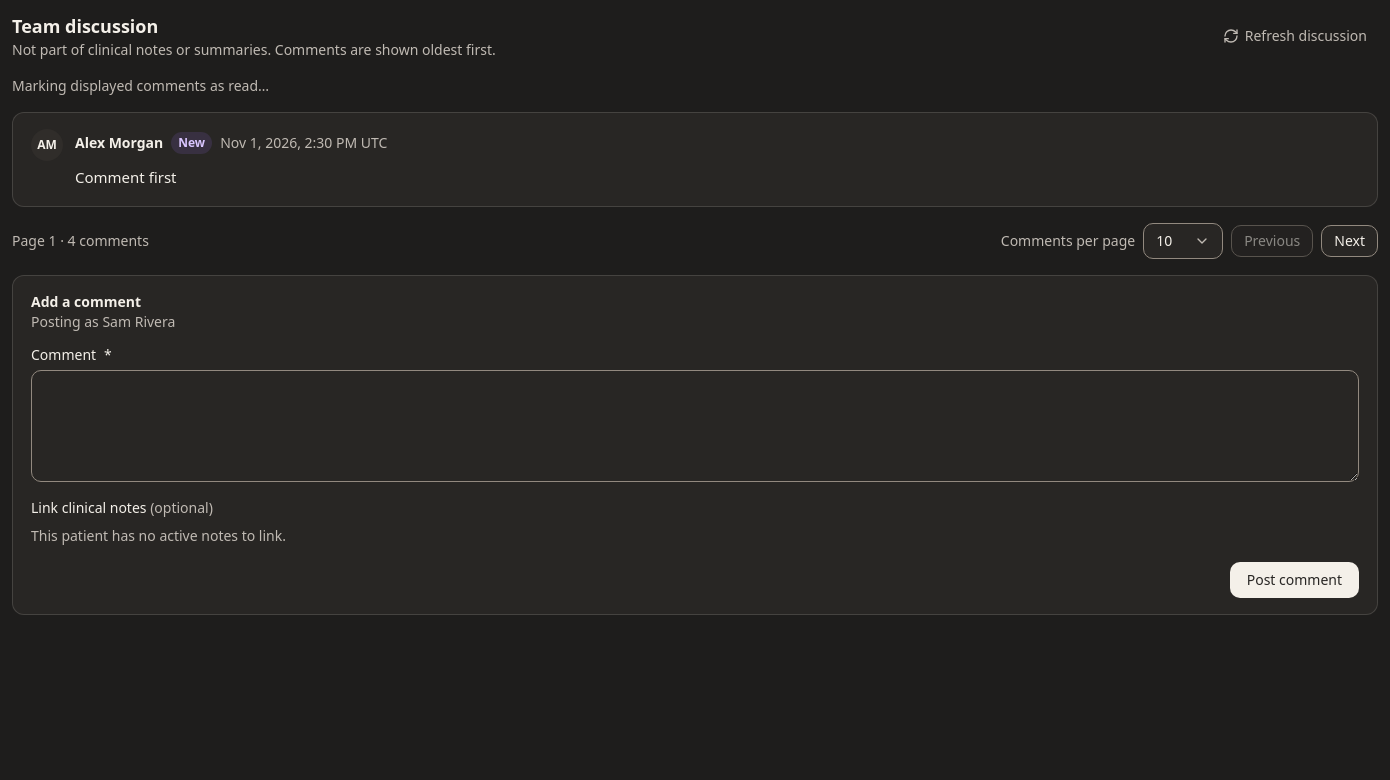
Test: displayed discussion acknowledgments › flushes only the displayed cursor prefix after a pending read settles while hidden
Click the button "Next" at (1350, 241), box [1321, 225, 1378, 257]
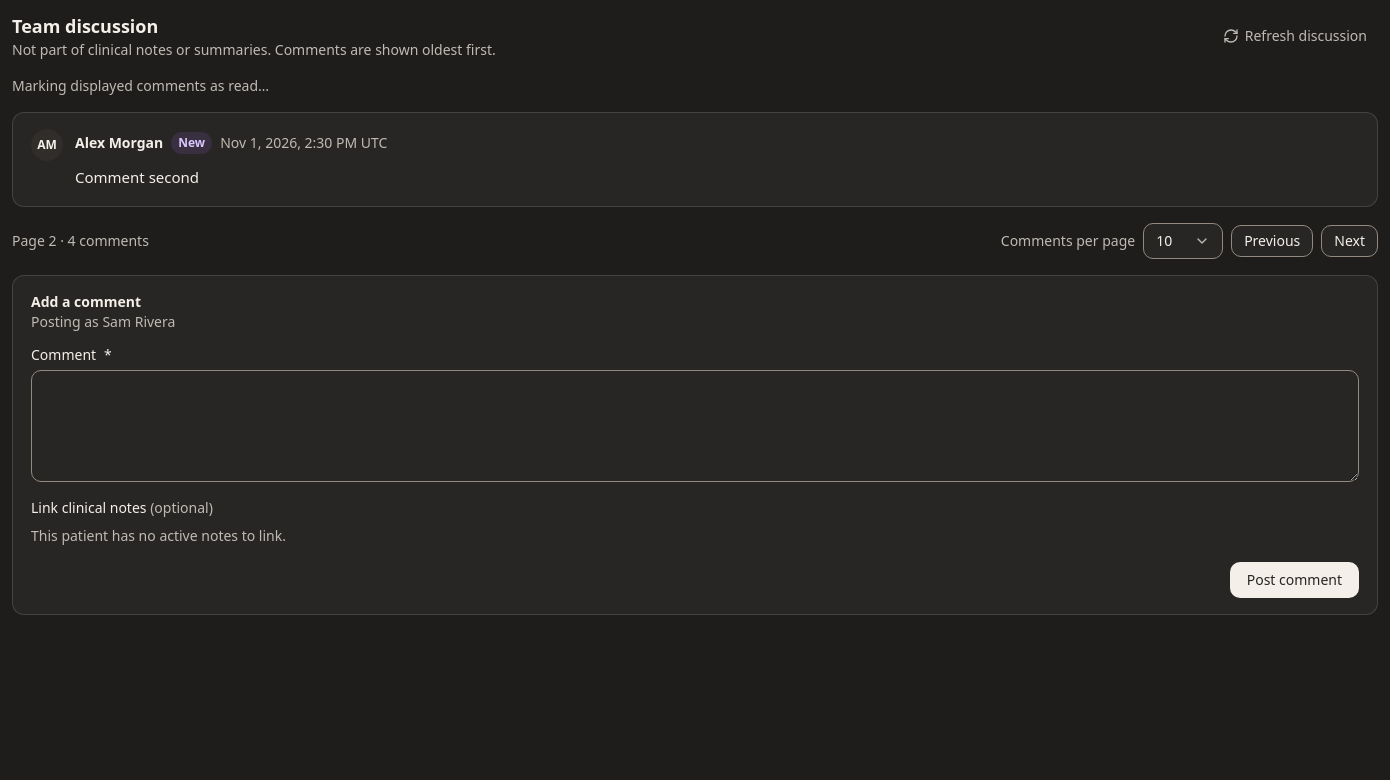
Now the text "Comment second" is shown, box [75, 167, 199, 187]
Click the button "Next" at (1350, 241), box [1321, 225, 1378, 257]
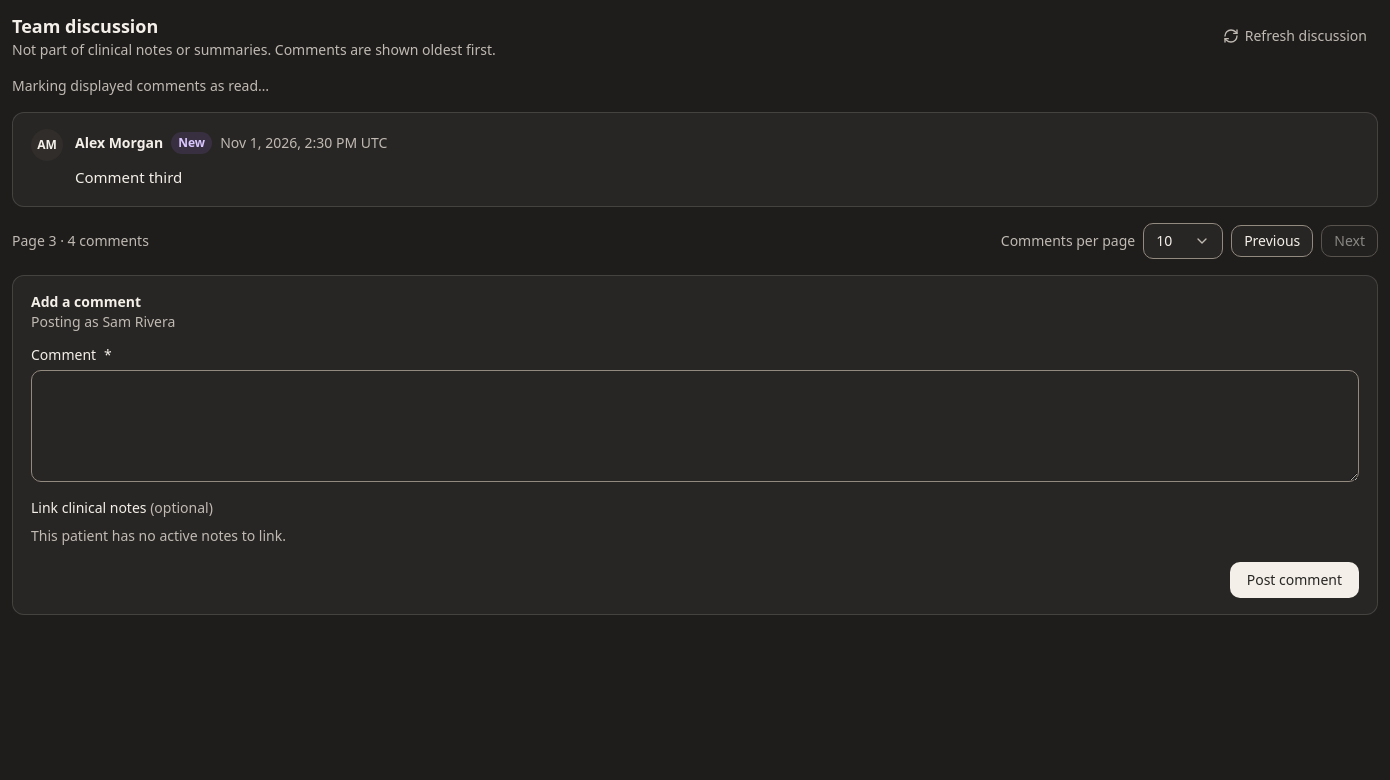
Now the text "Comment third" is shown, box [75, 167, 182, 187]
Now the button "Next" is disabled, box [1321, 225, 1378, 257]
Click the button "Previous" at (1272, 241), box [1231, 225, 1313, 257]
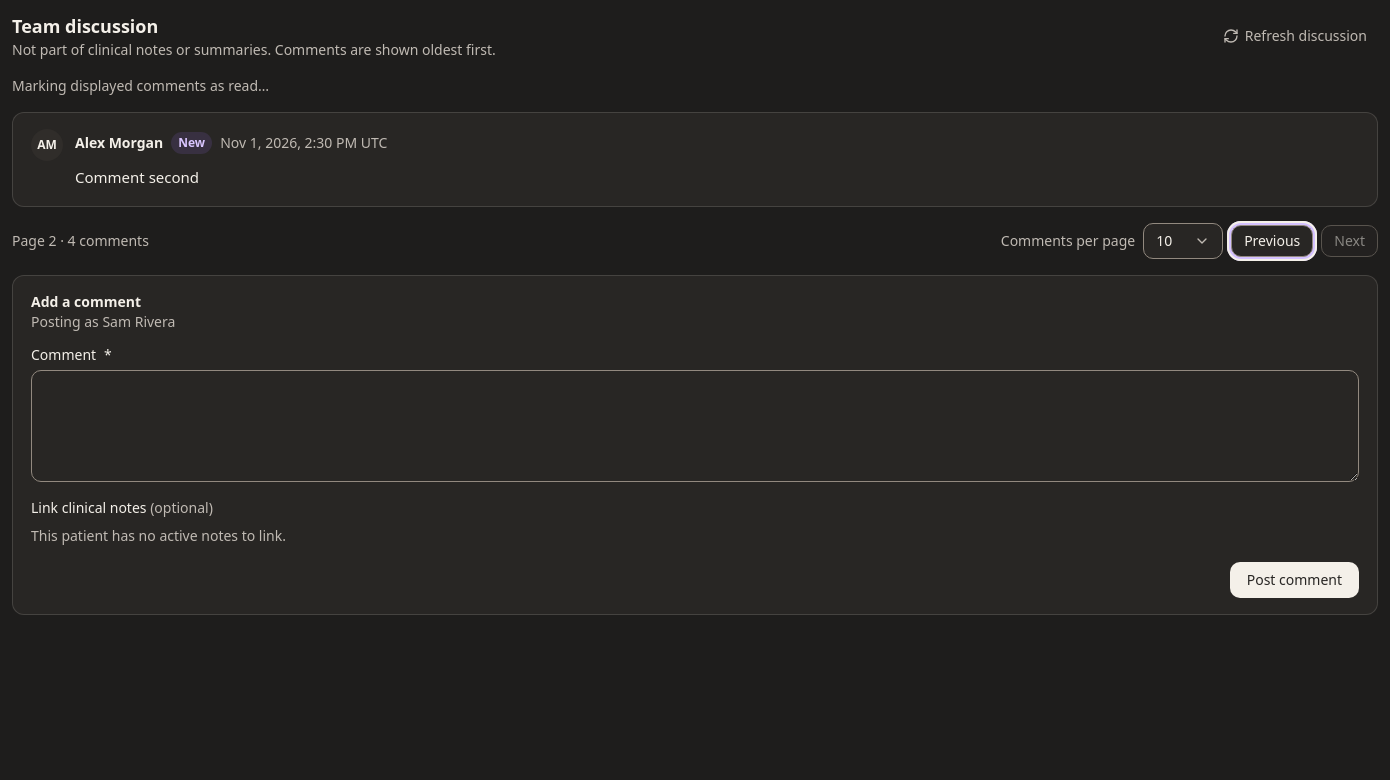
Now the text "Comment second" is shown, box [75, 167, 199, 187]
Click the button "Previous" at (1272, 241), box [1231, 225, 1313, 257]
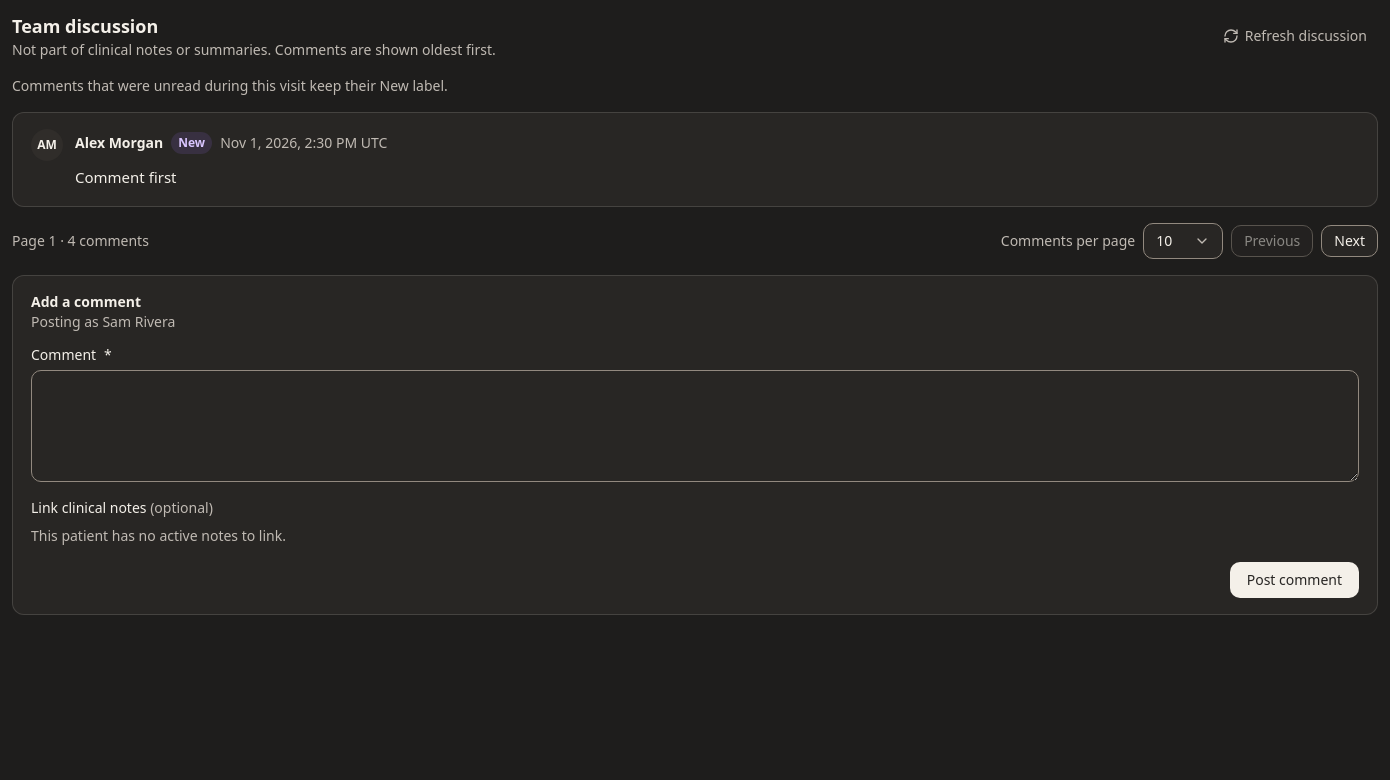
Now the text "Comment first" is shown, box [75, 167, 176, 187]
Click the button "Next" at (1350, 241), box [1321, 225, 1378, 257]
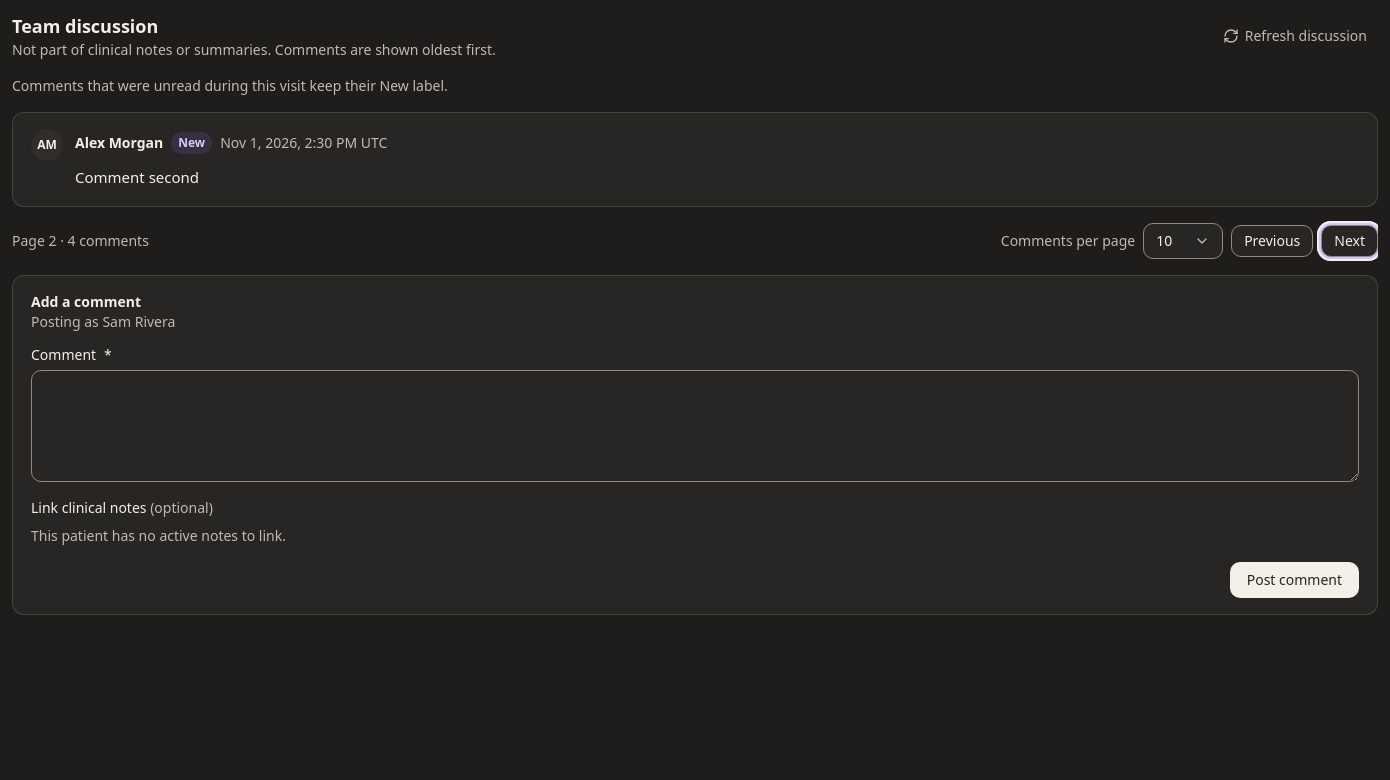
Now the text "Comment second" is shown, box [75, 167, 199, 187]
Click the button "Next" at (1350, 241), box [1321, 225, 1378, 257]
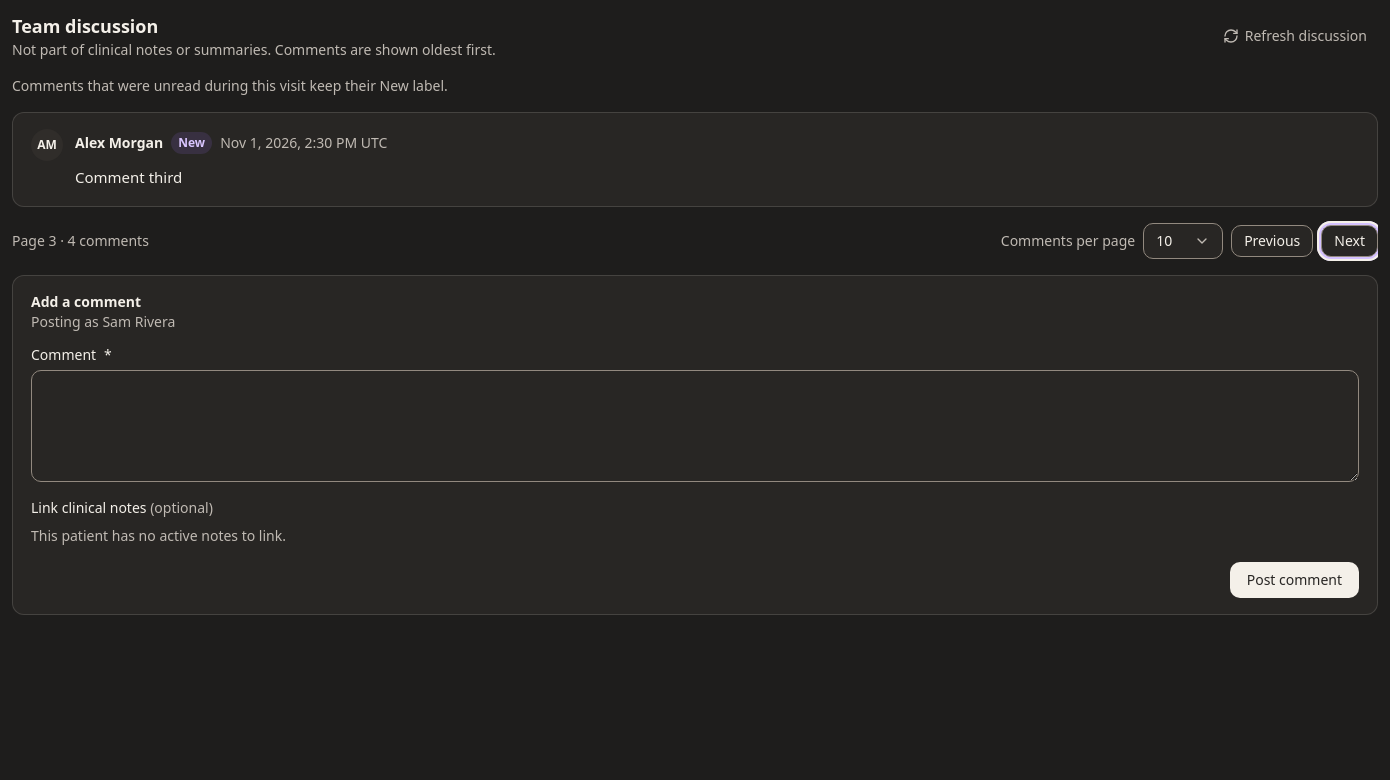
Now the text "Comment third" is shown, box [75, 167, 182, 187]
